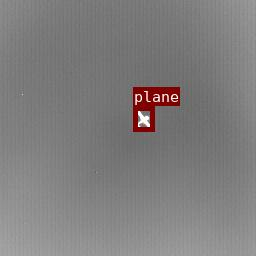plane: (133, 106, 154, 131)
